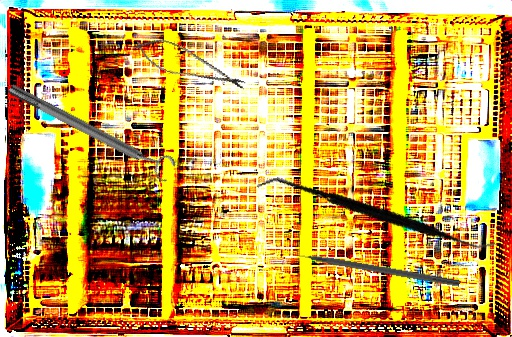Fixation Ring: (4, 74, 178, 186)
Hook Surgical: (280, 247, 461, 288)
Micro Scissor: (128, 30, 252, 99)
Spatula Surgical: (256, 127, 497, 304)
